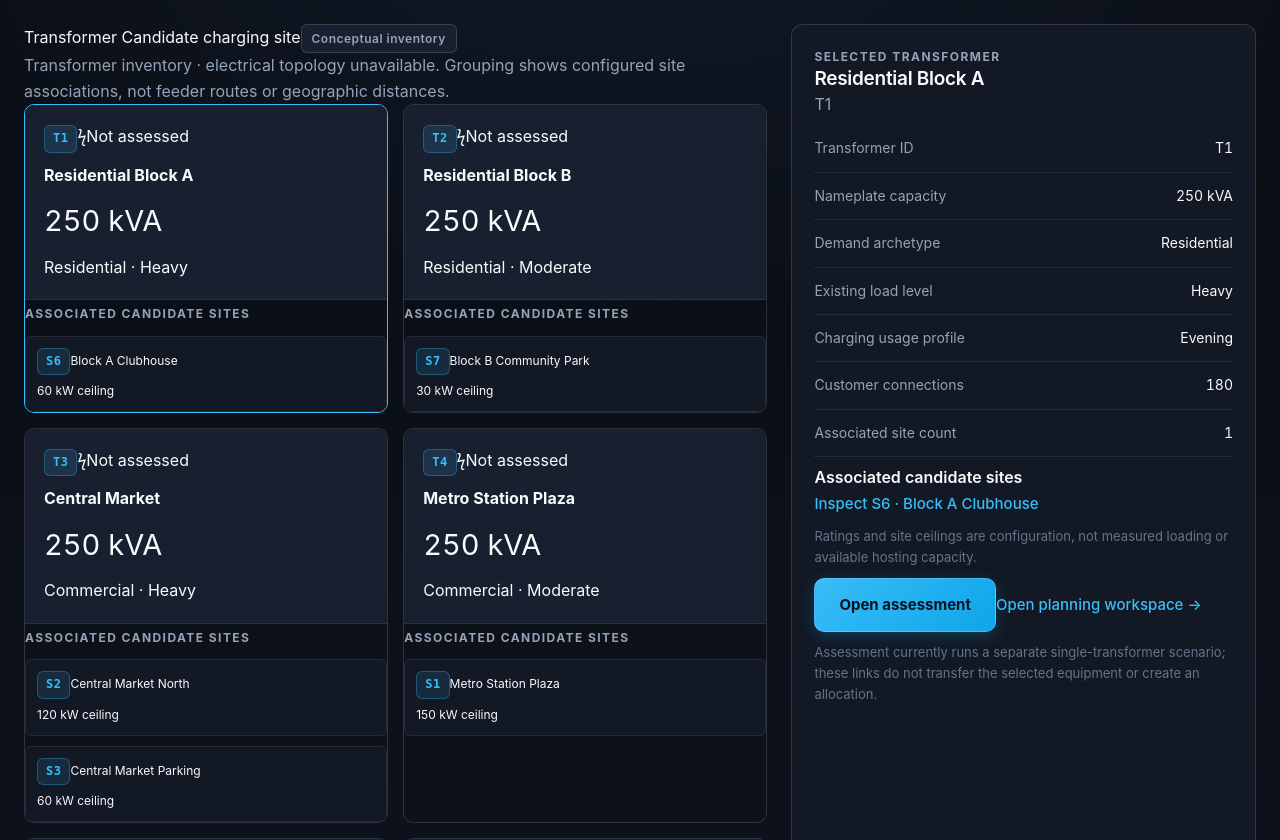
it: API-backed network explorer › updates details and highlight when another transformer is selected
This screenshot has width=1280, height=840.
Click the button with aria-label "Inspect transformer T3: Central Market".
click(61, 463)  # box x1=25 y1=429 x2=387 y2=624
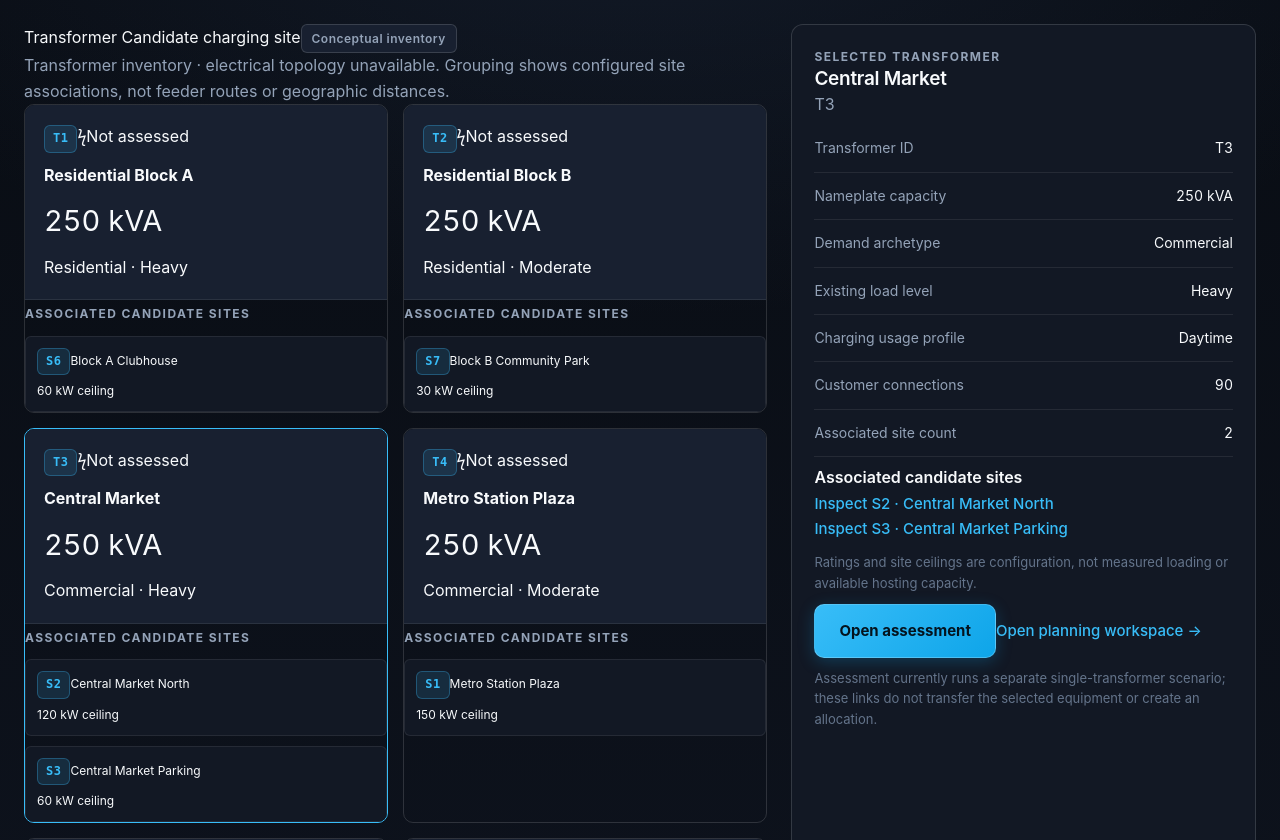
Expected: the heading "Central Market" is shown, x1=814 y1=67 x2=947 y2=90
Expected: the text "Commercial" is shown, x1=1154 y1=232 x2=1233 y2=255
Expected: the text "90" is shown, x1=1215 y1=374 x2=1233 y2=397
